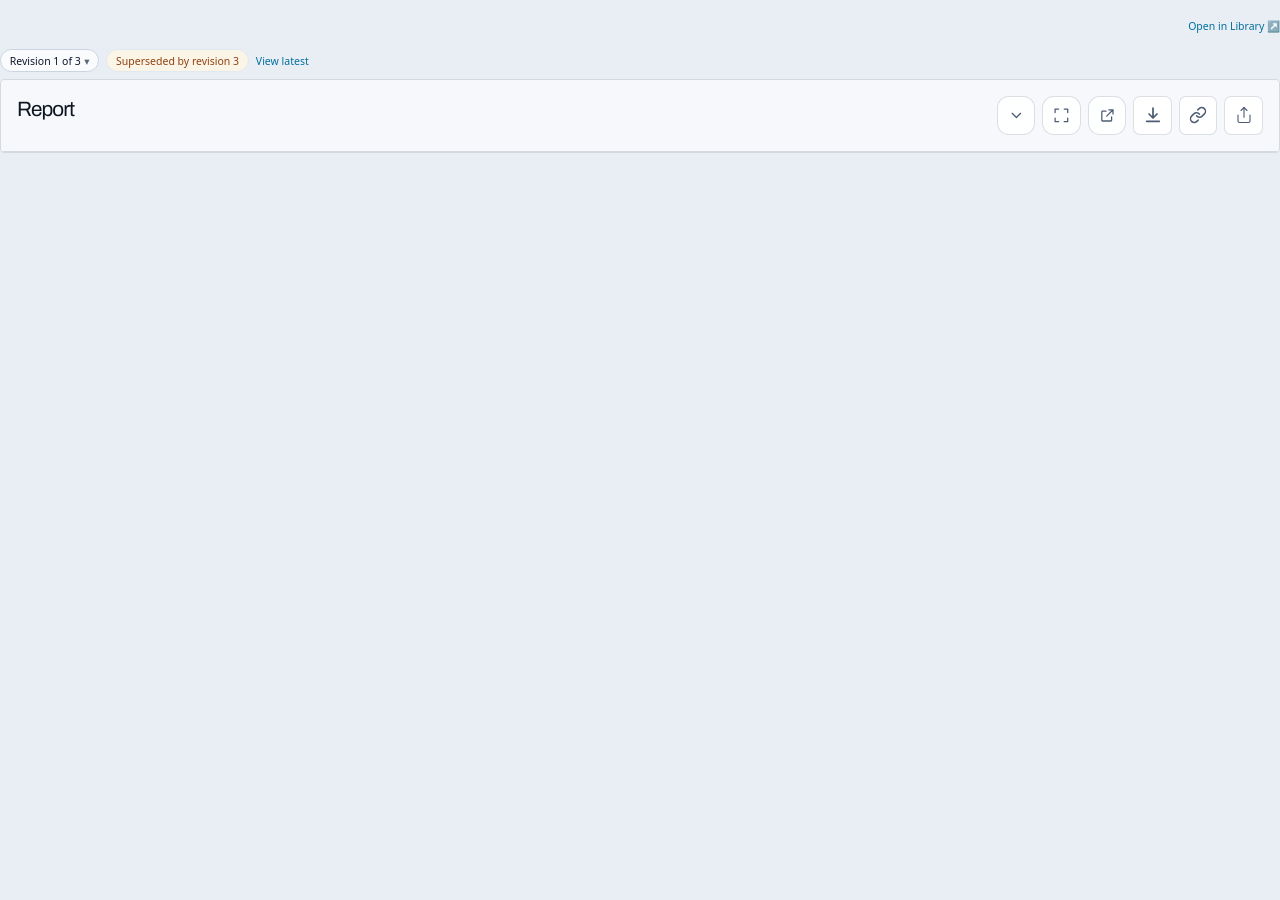
Test: AssistantDeliverableBlock revisions › marks an older card as superseded and opens the latest revision in place
Check: the text with test id "deliverable-superseded-notice" reads "Superseded by revision 3", box [116,54,239,68]
Check: the button with test id "deliverable-revision-toggle" shows "Revision 1 of 3", box [0,49,99,72]
Click the button with test id "deliverable-view-latest": (282, 60) [256,54,309,68]
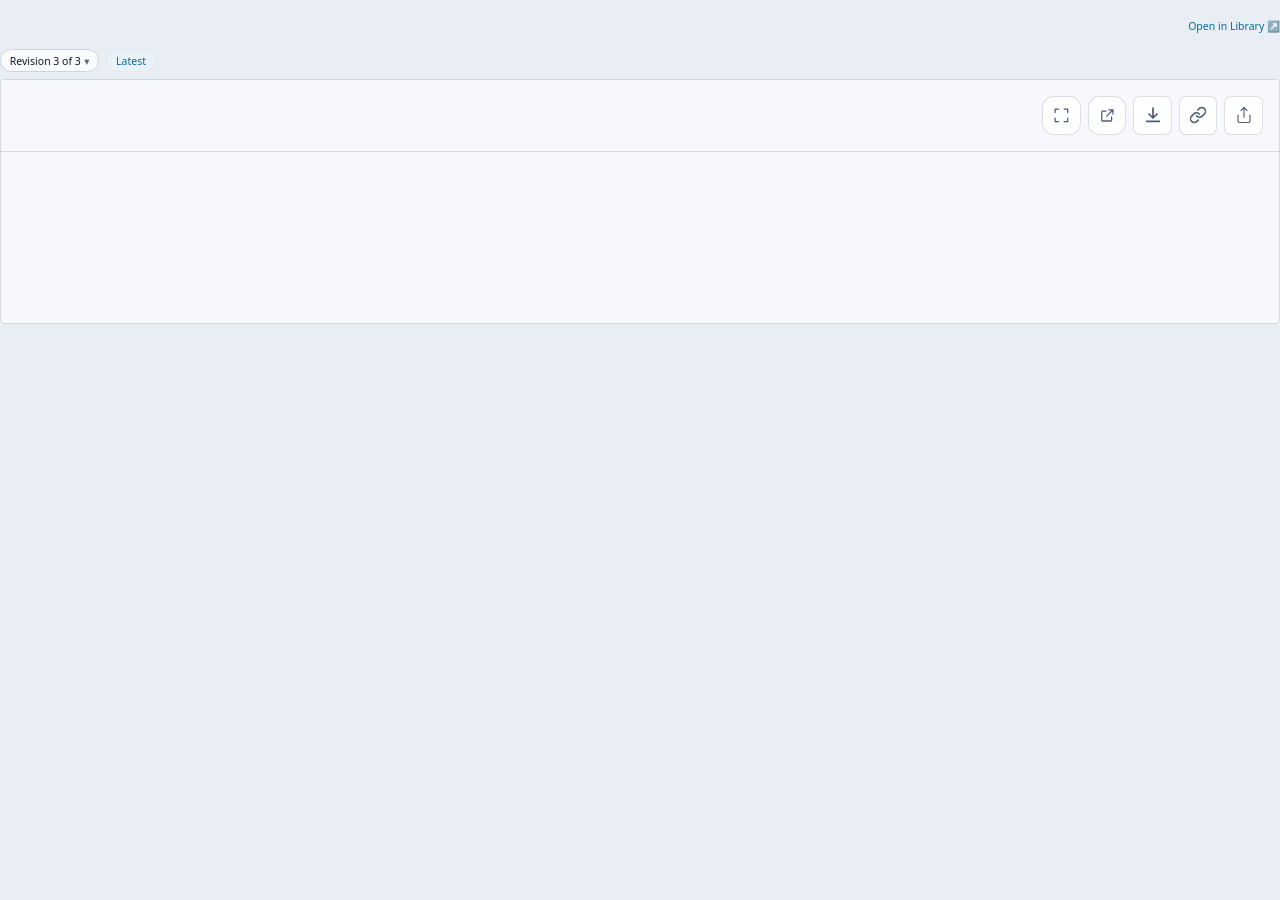
Check: the button with test id "deliverable-revision-toggle" shows "Revision 3 of 3", box [0,49,99,72]
Check: the text with test id "deliverable-superseded-notice" is gone
